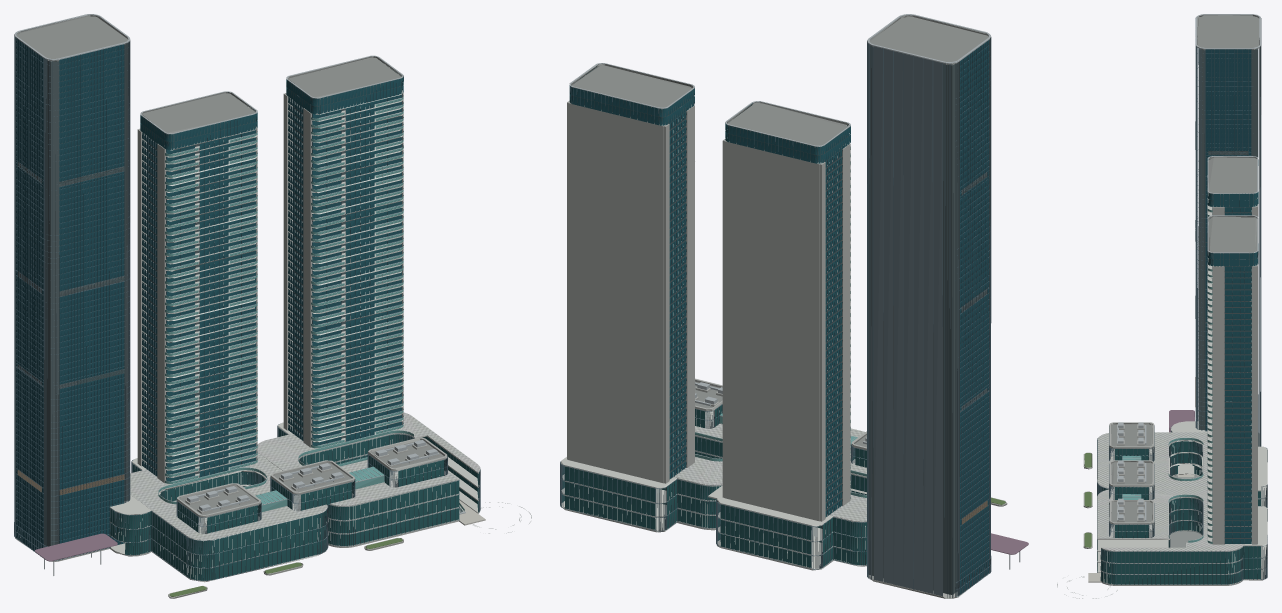
The model's file is light.glb.
3 views of the same model, side by side, from view 1: azimuth 30°, elevation 25°; view 2: azimuth 150°, elevation 25°; view 3: azimuth 270°, elevation 25° (orthographic). The views are drawn at different scales.
Visible parts, largest first — view 1: RESIDENTIAL MID central glazing, OFFICE canopy ribs, OFFICE finite blue glazing, PODIUM 1 open-court slabs, PODIUM 1 roof court guard, PODIUM 1 external storefront glass, OFFICE inner core NOT_INTERIOR, OFFICE neutral foundation plinth, OFFICE inner roof return CLOSURE_HOLD, PODIUM 1 procedural roof paving finish, OFFICE canopy posts, OFFICE entrance glazed canopy; view 2: OFFICE neutral foundation plinth, OFFICE local rear neutral CLOSURE_HOLD panels, OFFICE canopy ribs, OFFICE inner core NOT_INTERIOR, RESIDENTIAL MID central glazing, OFFICE finite blue glazing, PODIUM 1 external storefront glass, OFFICE inner roof return CLOSURE_HOLD, PODIUM 1 open-court slabs, PODIUM 1 procedural roof paving finish, OFFICE canopy posts; view 3: OFFICE canopy ribs, RESIDENTIAL MID central glazing, PODIUM 1 external storefront glass, OFFICE inner roof return CLOSURE_HOLD, OFFICE neutral foundation plinth, OFFICE inner core NOT_INTERIOR, OFFICE finite blue glazing, PODIUM 1 procedural roof paving finish, PODIUM 1 open-court slabs, OFFICE canopy posts, PODIUM 1 roof court guard, PODIUM 1 inner street ground paving (+2 smaller).
Boxes of the visible parts, x1,y1,x2,y2 form: RESIDENTIAL MID central glazing: (140, 62, 403, 481); OFFICE canopy ribs: (14, 36, 480, 580); OFFICE finite blue glazing: (16, 38, 124, 555); PODIUM 1 open-court slabs: (110, 90, 480, 580); PODIUM 1 roof court guard: (158, 95, 464, 511); PODIUM 1 external storefront glass: (109, 429, 479, 580); OFFICE inner core NOT_INTERIOR: (15, 38, 401, 546); OFFICE neutral foundation plinth: (15, 90, 478, 598); OFFICE inner roof return CLOSURE_HOLD: (16, 15, 444, 518); PODIUM 1 procedural roof paving finish: (130, 412, 479, 539); OFFICE canopy posts: (14, 14, 465, 575); OFFICE entrance glazed canopy: (35, 533, 117, 561); OFFICE neutral foundation plinth: (564, 100, 1007, 598); OFFICE local rear neutral CLOSURE_HOLD panels: (869, 45, 942, 596); OFFICE canopy ribs: (560, 37, 991, 597); OFFICE inner core NOT_INTERIOR: (572, 40, 989, 594); RESIDENTIAL MID central glazing: (569, 67, 850, 517); OFFICE finite blue glazing: (960, 40, 989, 593); PODIUM 1 external storefront glass: (562, 404, 866, 567); OFFICE inner roof return CLOSURE_HOLD: (571, 15, 988, 447); PODIUM 1 open-court slabs: (560, 105, 866, 569); PODIUM 1 procedural roof paving finish: (673, 410, 866, 521); OFFICE canopy posts: (569, 14, 1020, 569); OFFICE canopy ribs: (1097, 18, 1267, 584); RESIDENTIAL MID central glazing: (1207, 159, 1258, 543); PODIUM 1 external storefront glass: (1097, 441, 1260, 584); OFFICE inner roof return CLOSURE_HOLD: (1111, 15, 1259, 524); OFFICE neutral foundation plinth: (1083, 197, 1263, 585); OFFICE inner core NOT_INTERIOR: (1199, 49, 1257, 541); OFFICE finite blue glazing: (1205, 49, 1251, 431); PODIUM 1 procedural roof paving finish: (1097, 432, 1243, 550); PODIUM 1 open-court slabs: (1097, 192, 1267, 585); OFFICE canopy posts: (1107, 14, 1260, 577); PODIUM 1 roof court guard: (1109, 209, 1212, 577); PODIUM 1 inner street ground paving: (1057, 464, 1202, 598).
Bounding box in the file's own units: 89.64 × 100 × 45.8.
Materials: 18 (1 with a texture image).
